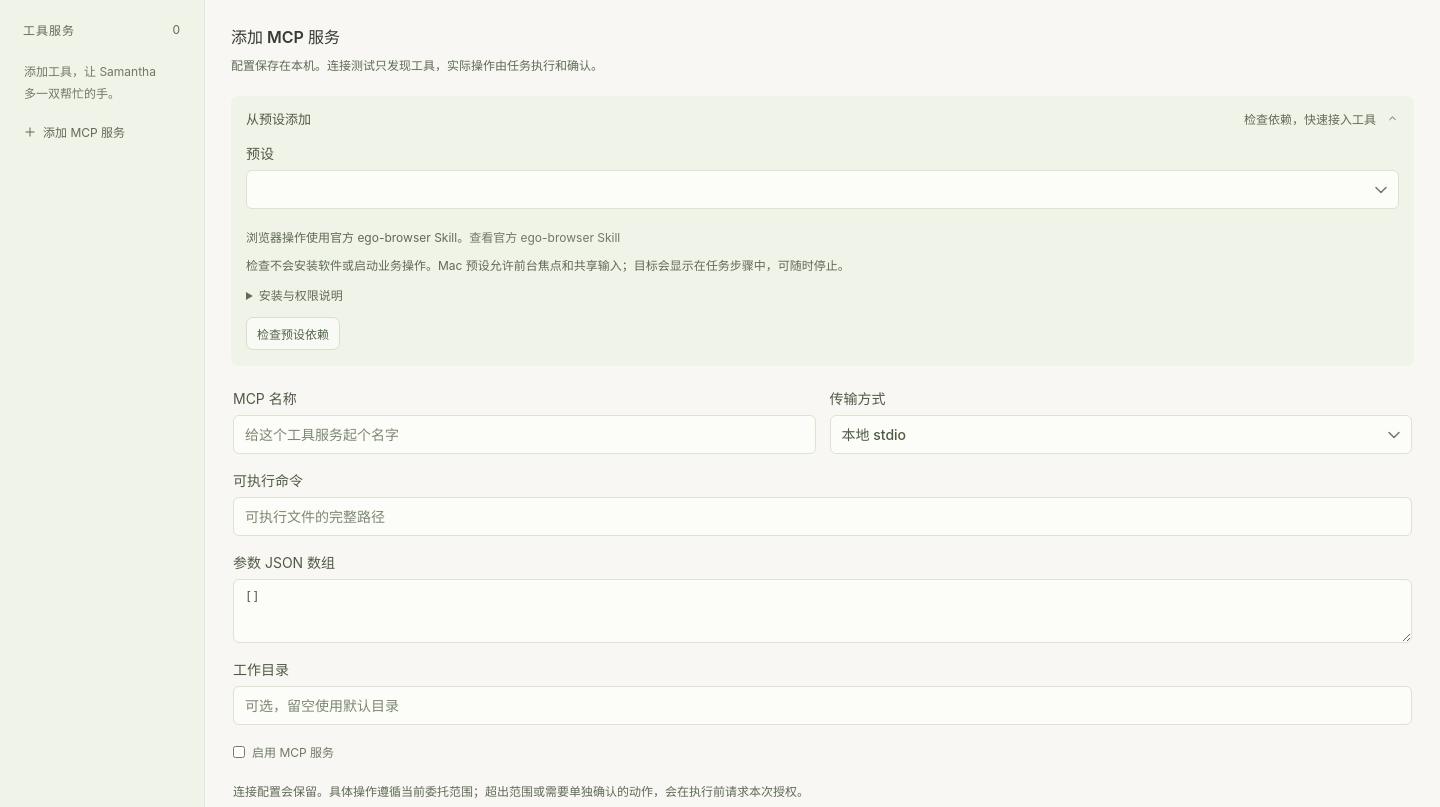
Test: new presets can recheck after installation without losing custom draft fields
Select "markitdown" in the dropdown labelled "预设": x=822, y=190 [246,170,1399,209]
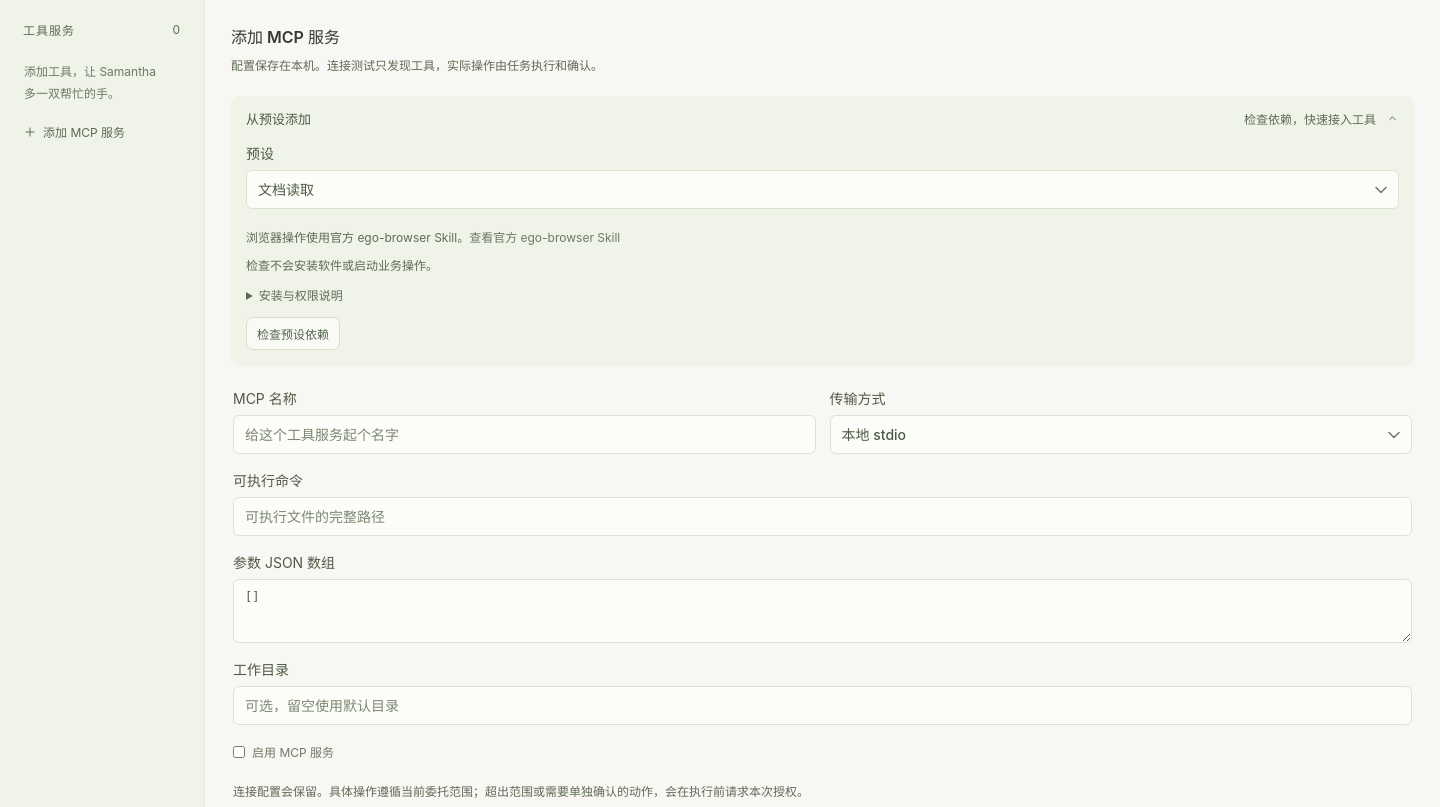
In the field labelled "MCP 名称": x=524, y=435 [233,415,816,454], type "我的草稿"
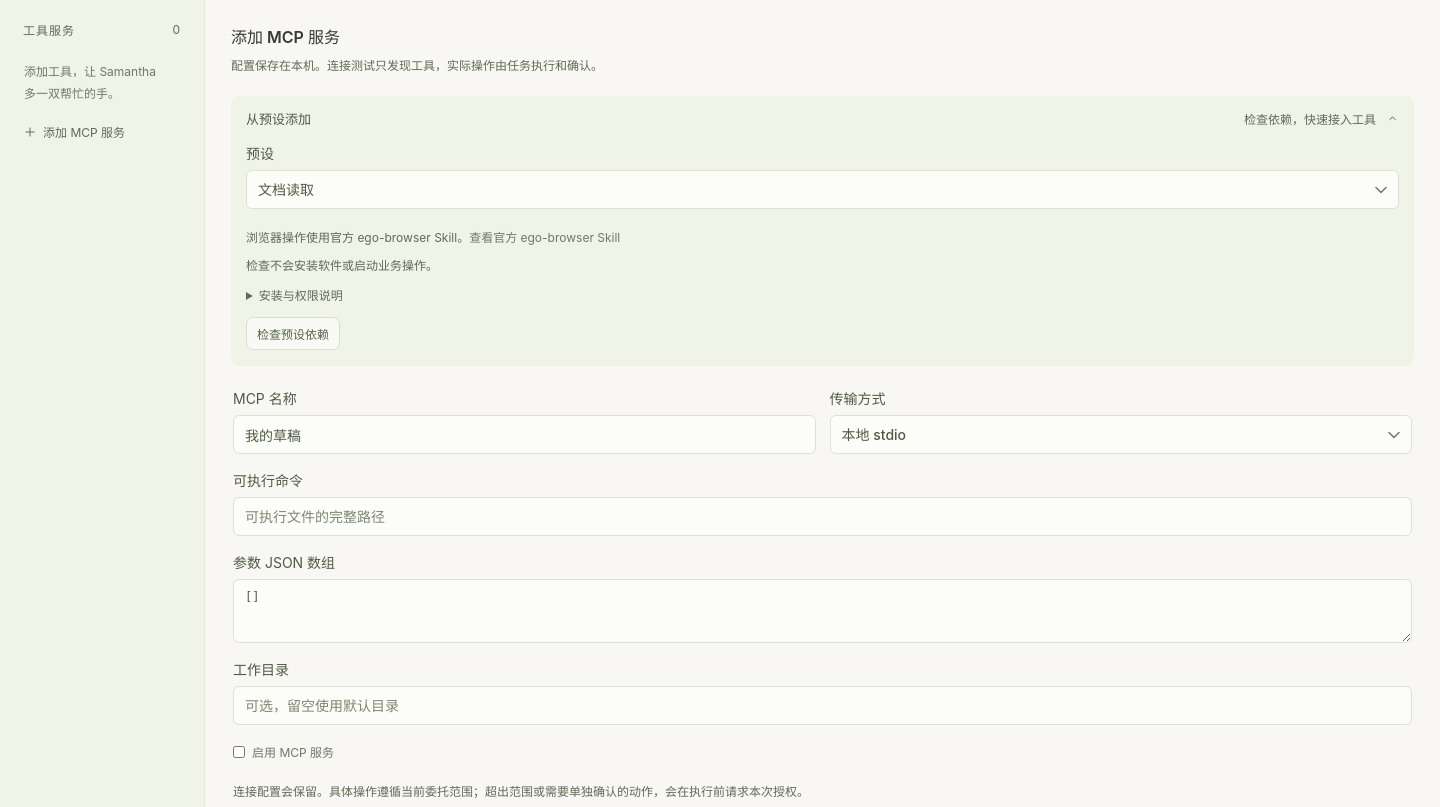
Click the button "检查预设依赖": x=293, y=334 [246,317,340,350]
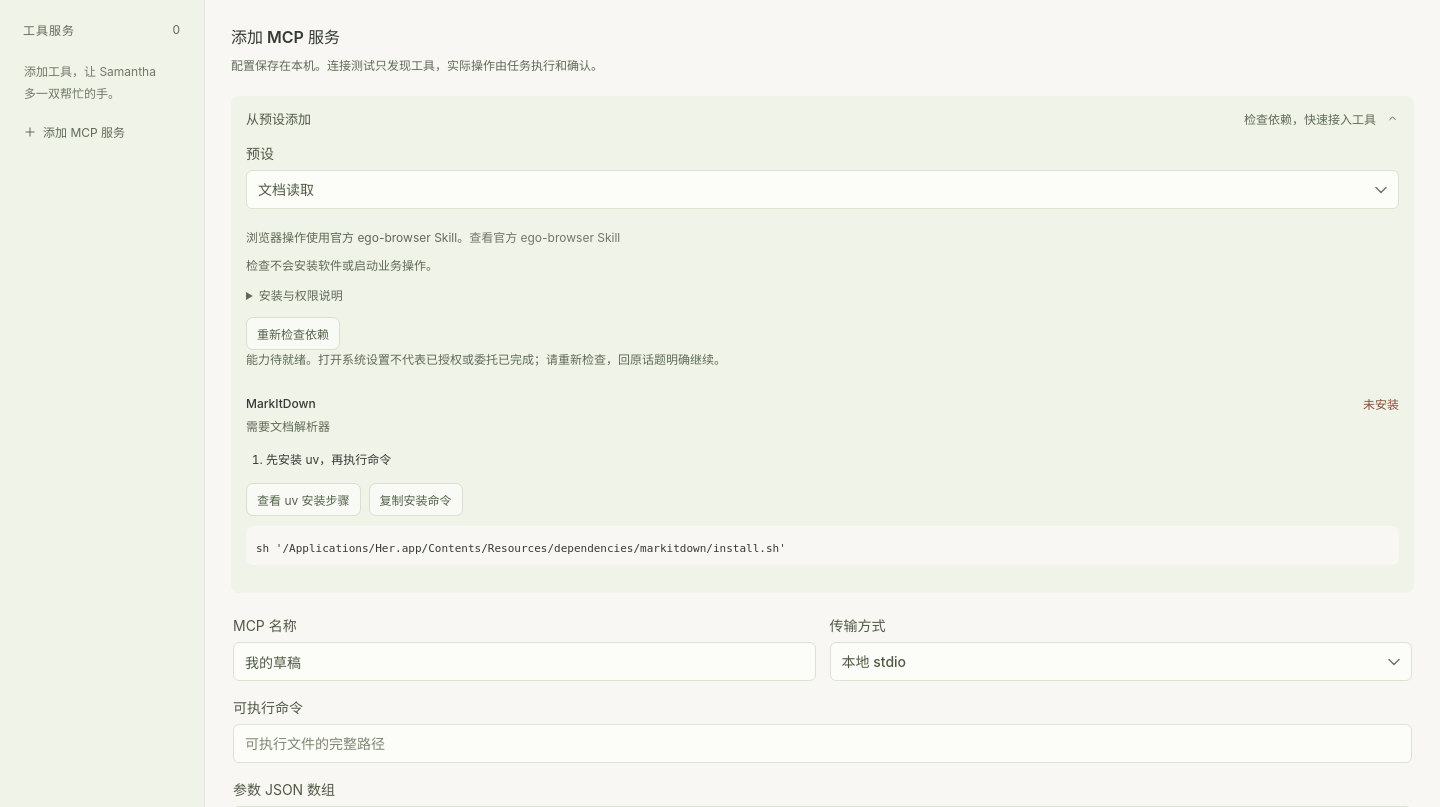
Expected: the button "查看 uv 安装步骤" is shown, [246,483,361,516]
Click the button "重新检查依赖": x=293, y=334 [246,317,340,350]
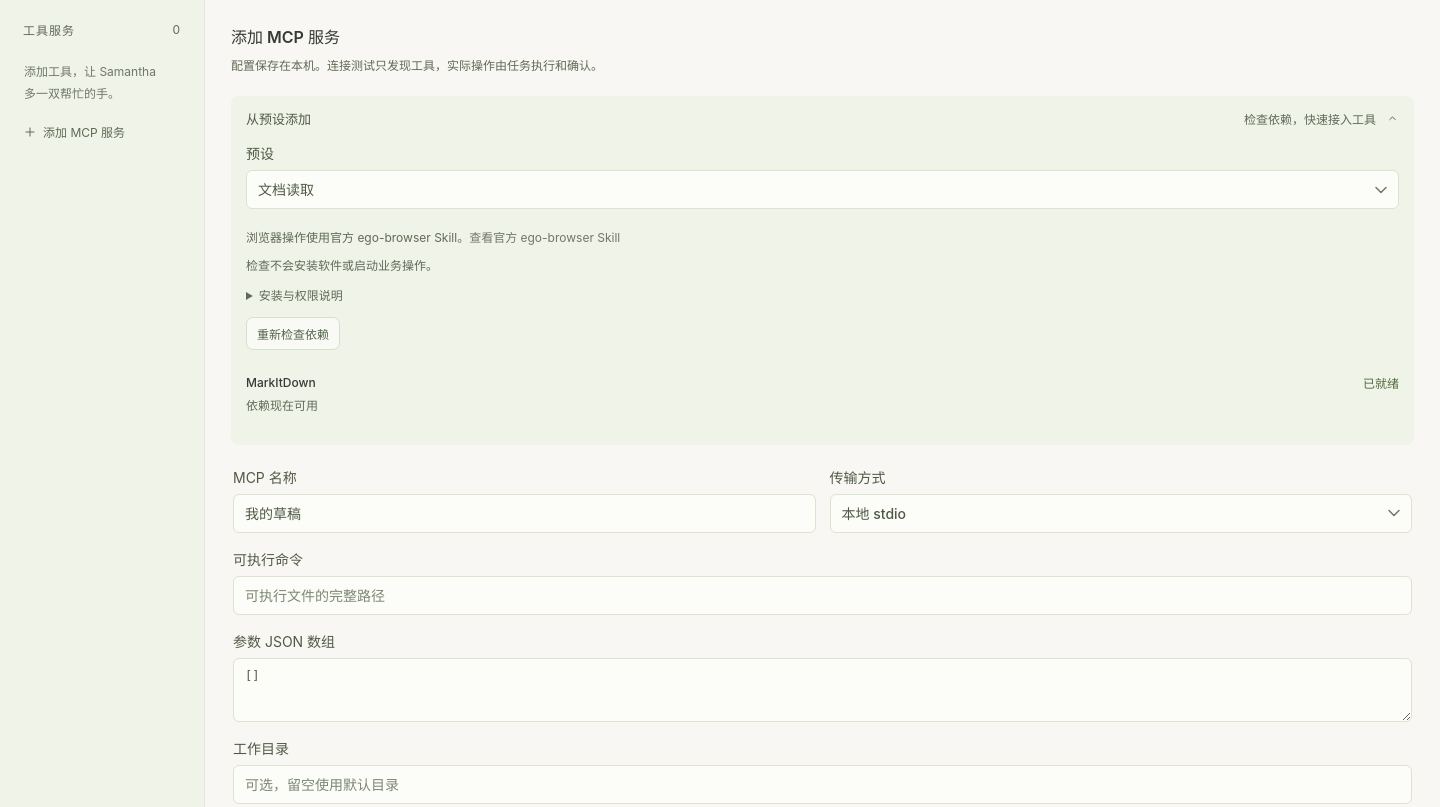
Expected: the text "依赖现在可用" is shown, [246,398,318,413]
Expected: the button "查看 uv 安装步骤" is gone
